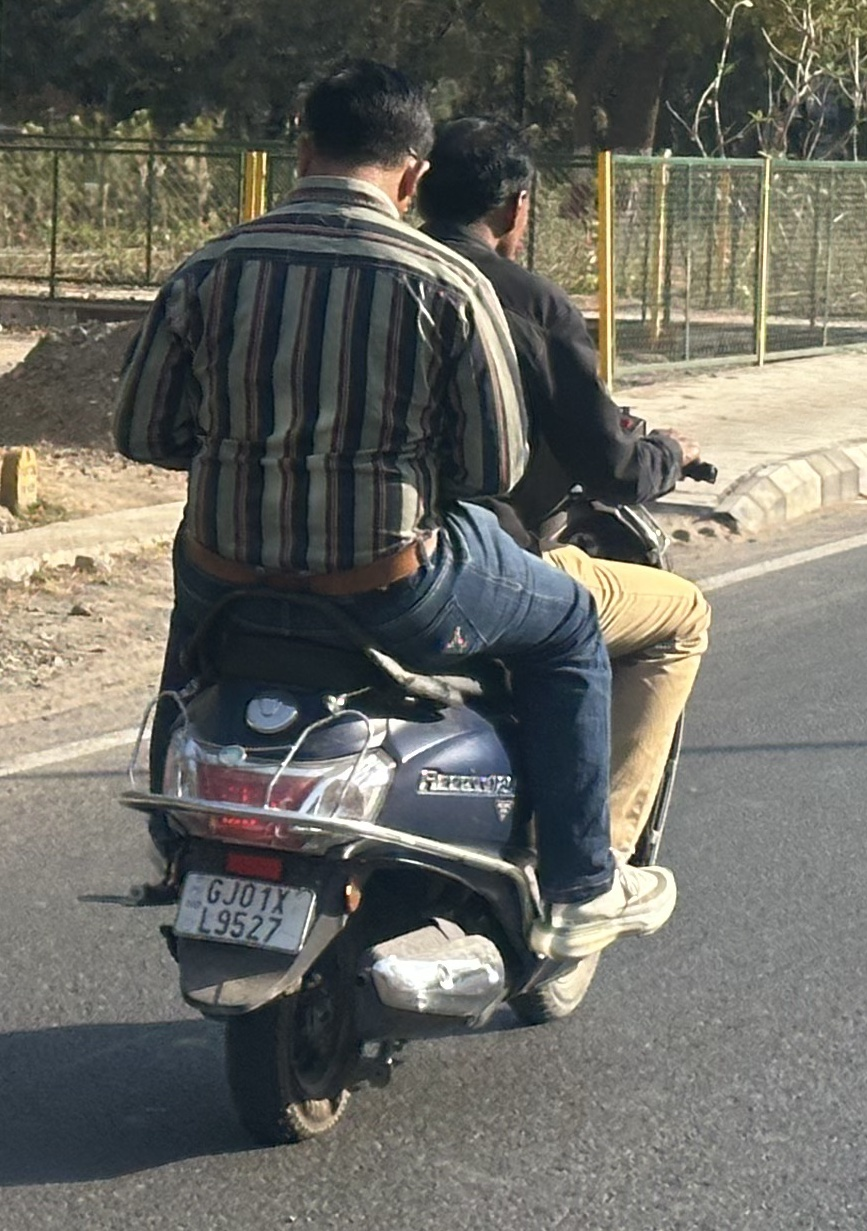BikeWithRider: (89, 42, 727, 1153)
NoHelmet: (277, 50, 446, 233), (399, 107, 552, 275)
